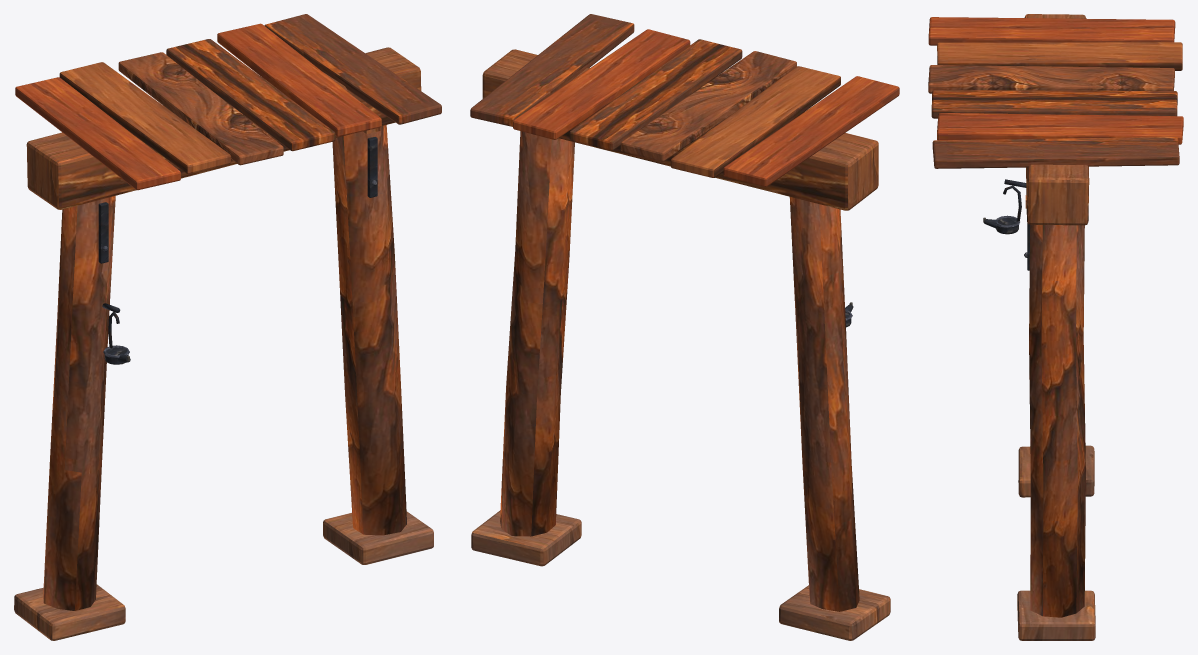
File: mp_door_set.glb
3 renders of one model, left to right at view 1: azimuth 30°, elevation 25°; view 2: azimuth 150°, elevation 25°; view 3: azimuth 270°, elevation 25°, orthographic. The views are drawn at different scales.
Parts seen in each view (by area): view 1: model; view 2: model; view 3: model.
Boxes of the visible parts, box(x1,y1,x2,y2) form: model: box(14, 14, 441, 640); model: box(470, 14, 899, 640); model: box(928, 14, 1183, 640).
Bounding box in the file's own units: 1.64 × 1.99 × 0.9886.
Materials: 13 (12 with a texture image).
